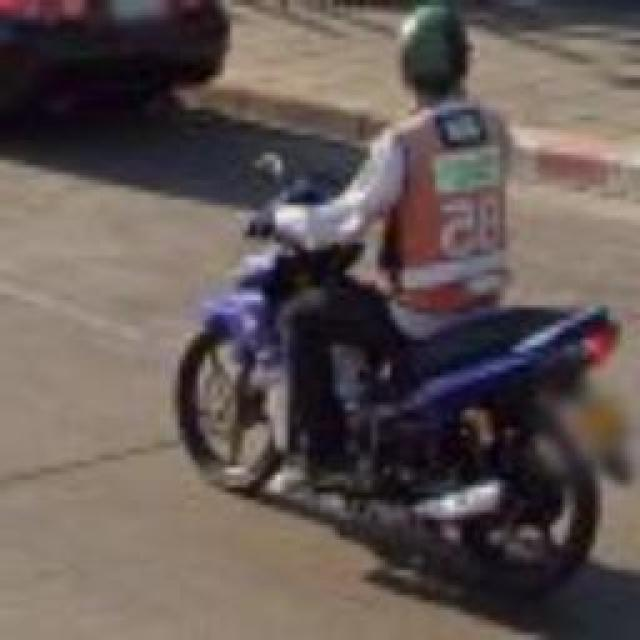motorcycle: (175, 173, 635, 610)
